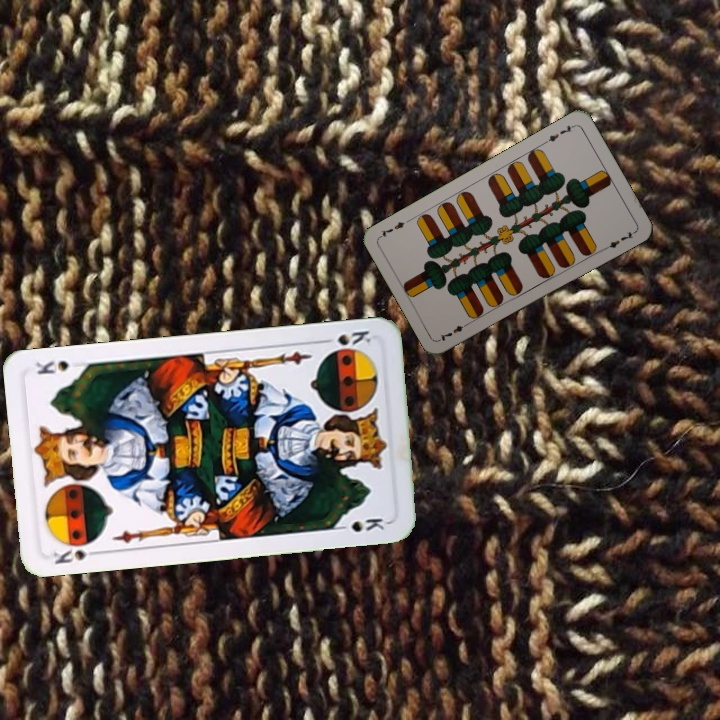E7: (435, 318, 473, 344), (540, 121, 577, 146)
SK: (316, 326, 374, 348), (50, 546, 104, 567)
